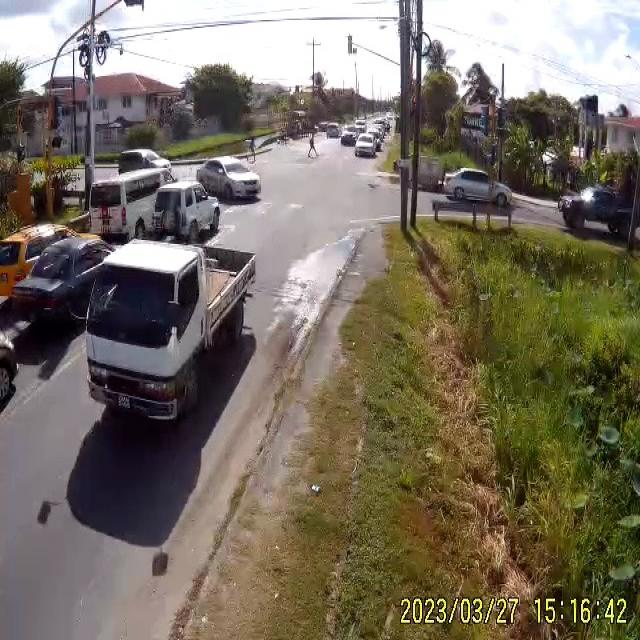car: (4, 236, 116, 332), (88, 160, 172, 240), (153, 181, 220, 242), (560, 187, 634, 236), (197, 156, 260, 202), (447, 168, 512, 205), (356, 134, 378, 156), (339, 132, 356, 146), (326, 125, 341, 139)
person: (306, 138, 317, 156)
truck: (81, 238, 255, 424)
